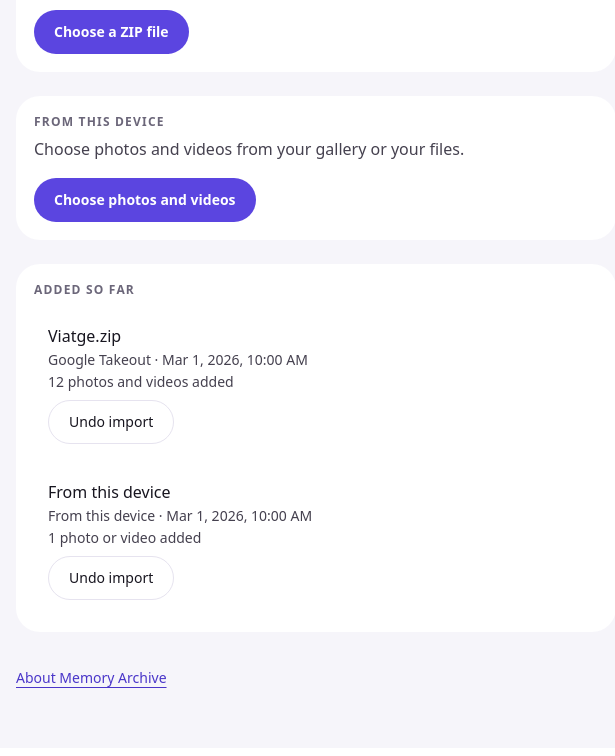
Test case: Photos screen: earlier imports and undo › lists imports with a name, source, when and count, and the confirmation names it and says what stays
(page scrolled)
Check: the number of list items with test id "photos-batch" is 2, box [34, 310, 598, 458]; [34, 466, 598, 614]
Check: the list item with test id "photos-batch" shows "Viatge.zip", box [48, 325, 121, 347]
Click the button "Undo import" below "Viatge.zip" at (111, 422), box [48, 400, 174, 444]
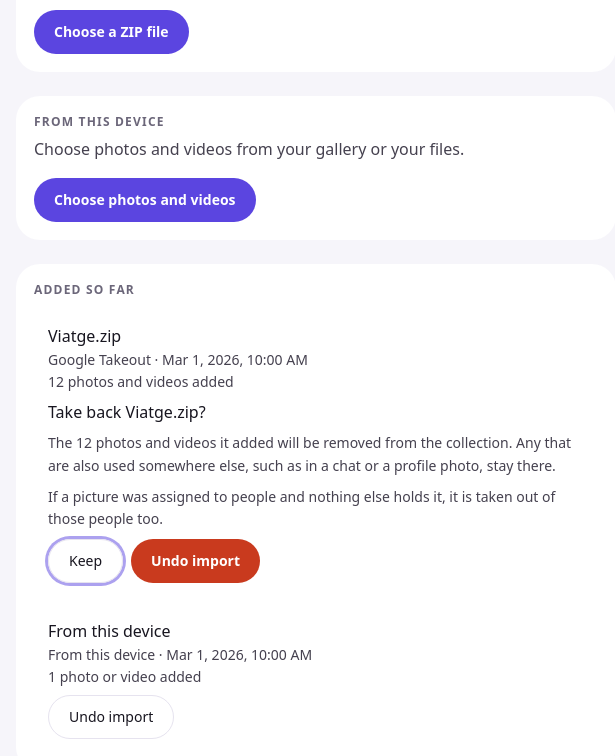
Check: the list item with test id "photos-batch" shows "Take back Viatge.zip?", box [34, 310, 598, 597]
Check: the list item with test id "photos-batch" shows "The 12 photos and videos it added will be removed from the collection.", box [48, 433, 571, 475]
Check: the list item with test id "photos-batch" shows "used somewhere else, such as in a chat or a profile photo, stay there", box [48, 433, 571, 475]
